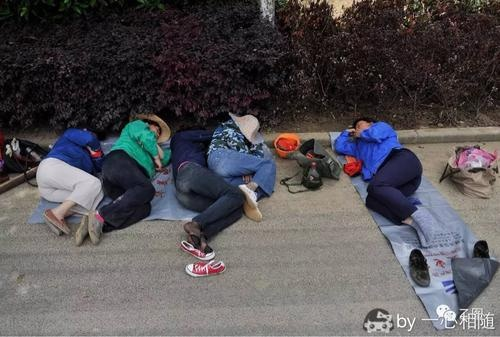falling: (318, 108, 459, 261)
